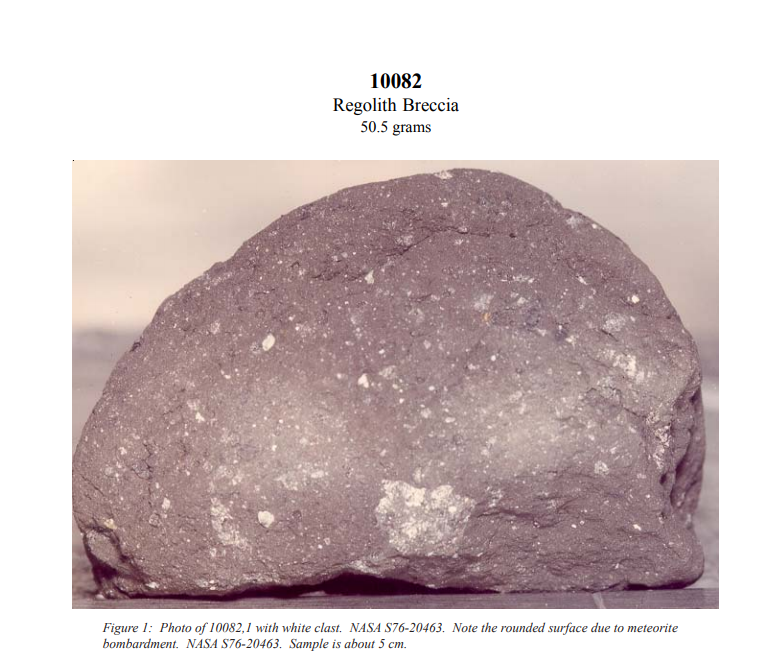Breccia: (71, 162, 706, 599)
